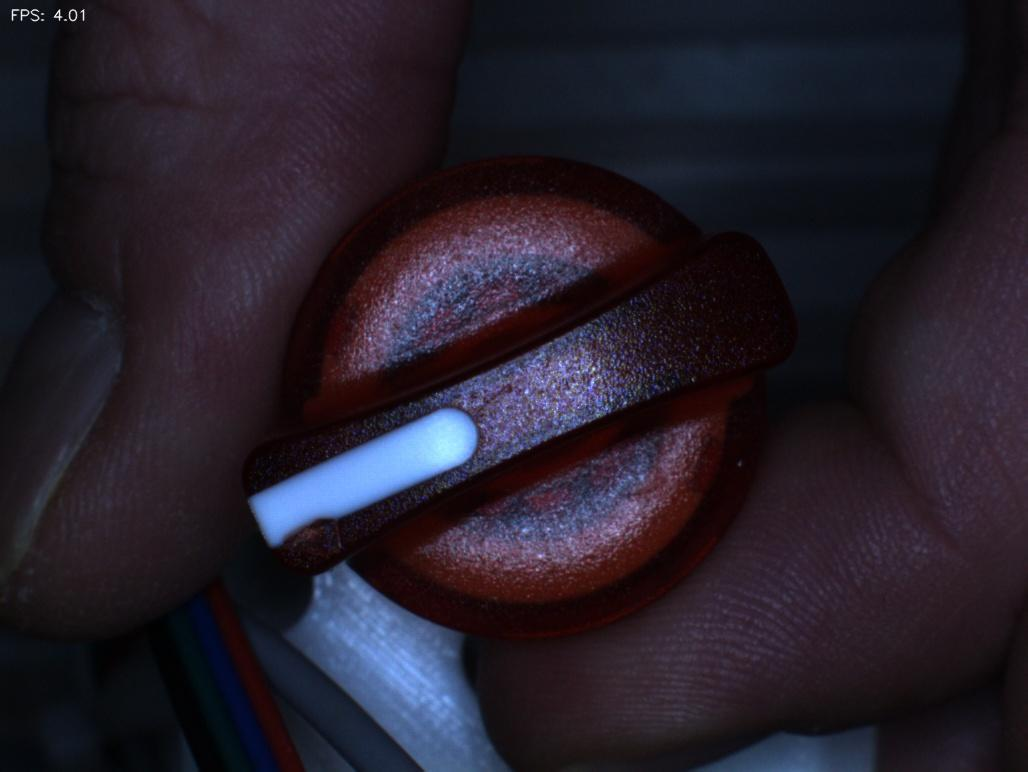Choc: (269, 506, 358, 587)
